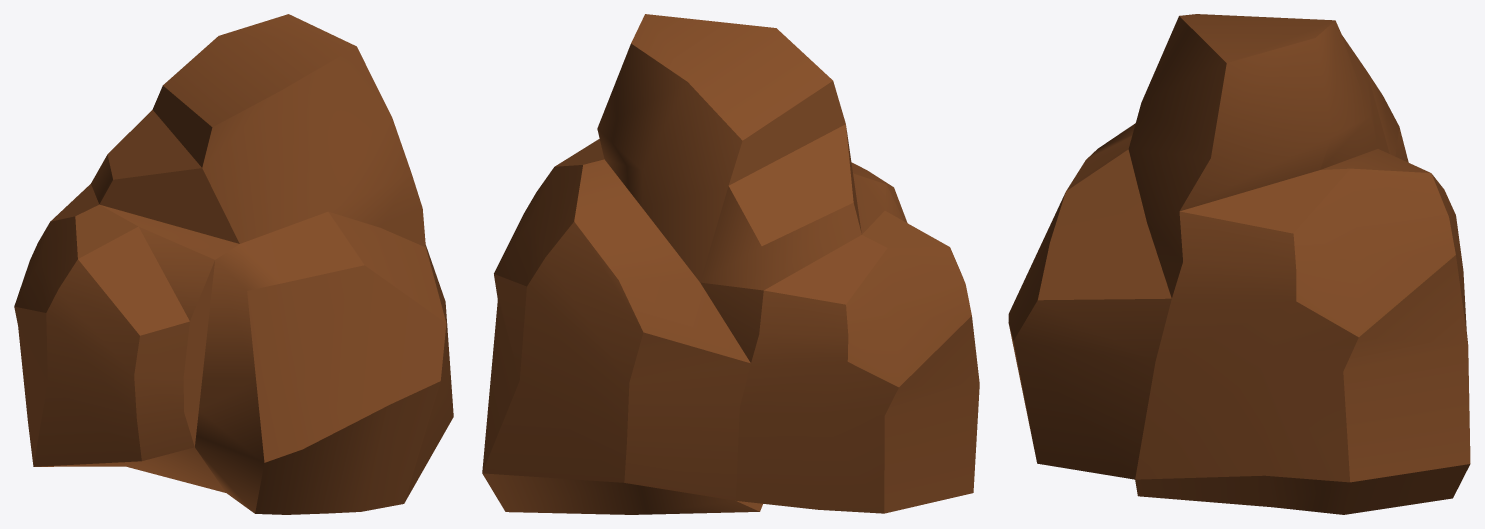
File: Rock 2.glb
The picture shows the model from 3 angles, left to right: view 1: azimuth 30°, elevation 25°; view 2: azimuth 150°, elevation 25°; view 3: azimuth 270°, elevation 25°; orthographic projection. The views are drawn at different scales.
Parts seen in each view (by area): view 1: Rock_2; view 2: Rock_2; view 3: Rock_2.
Boxes of the visible parts, x1,y1,x2,y2 form: Rock_2: (14,14,453,514); Rock_2: (482,14,979,514); Rock_2: (1008,14,1470,514).
Size of the model in its own units: 2.74 by 2.71 by 2.52.
1 material, 1 textured.
